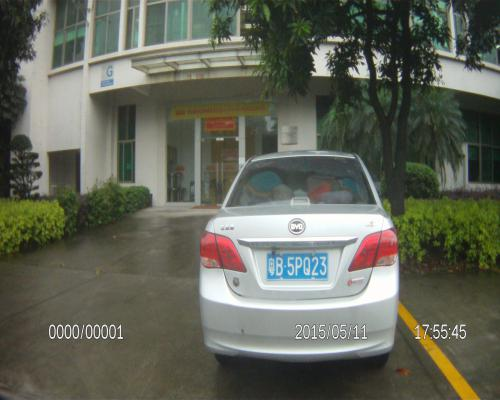Carplate: (264, 247, 331, 283)
